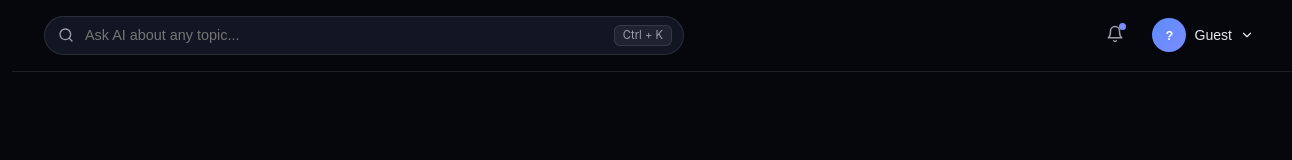
TopBar search › redirects an anonymous searcher to log in
This screenshot has width=1292, height=160.
Type "mitochondria" into the field with placeholder "Ask AI about any topic..." at (364, 35), box [44, 16, 684, 55]
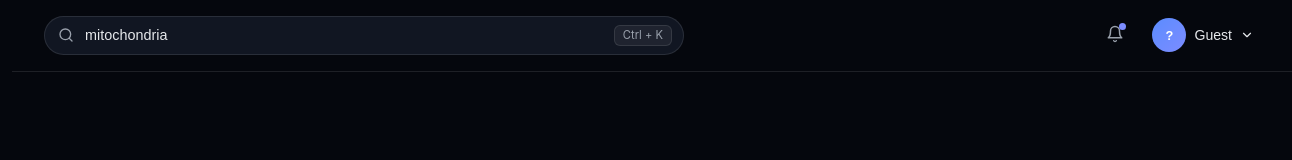
Press Enter in the field with placeholder "Ask AI about any topic...", box [44, 16, 684, 55]
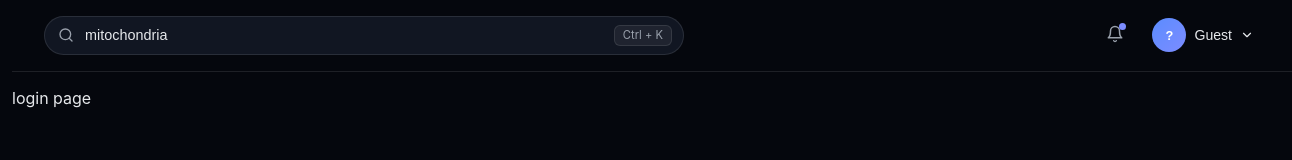
Expected: the text "login page" is shown, [12, 88, 91, 108]
